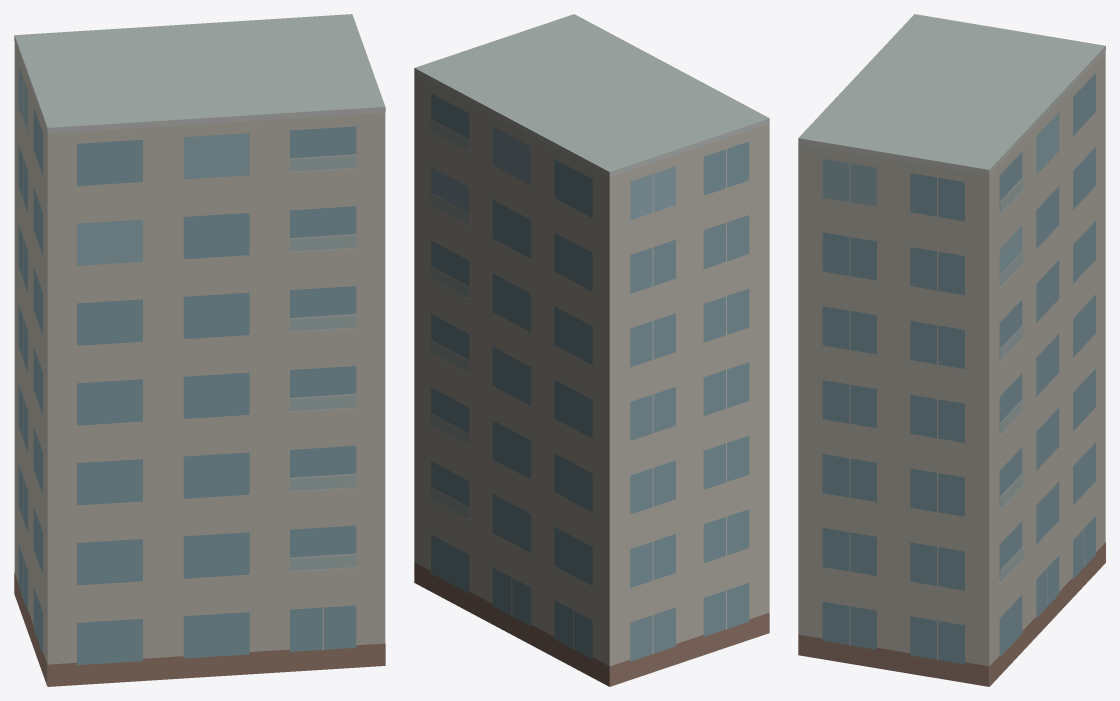
File: survey-upis-32878815.glb
3 renders of one model, left to right at view 1: azimuth 30°, elevation 25°; view 2: azimuth 150°, elevation 25°; view 3: azimuth 270°, elevation 25°, orthographic. The views are drawn at different scales.
Parts seen in each view (by area): view 1: survey-upis-32878815.tmp; view 2: survey-upis-32878815.tmp; view 3: survey-upis-32878815.tmp.
Part boxes in pixels (x1,y1,x2,y2): survey-upis-32878815.tmp: (14,14,385,686); survey-upis-32878815.tmp: (414,14,769,686); survey-upis-32878815.tmp: (798,14,1105,686).
Bounding box in the file's own units: 15.27 × 23.6 × 12.73.
